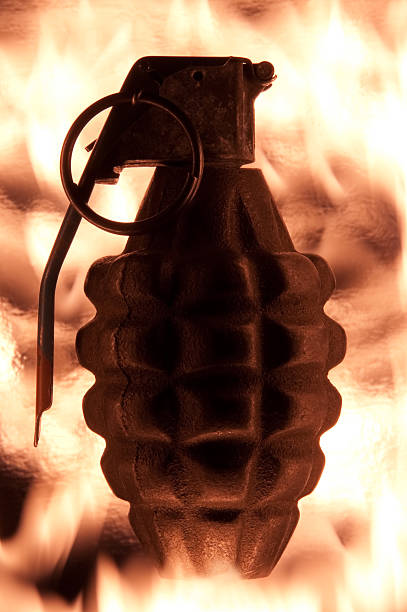e1: (34, 57, 347, 576)
